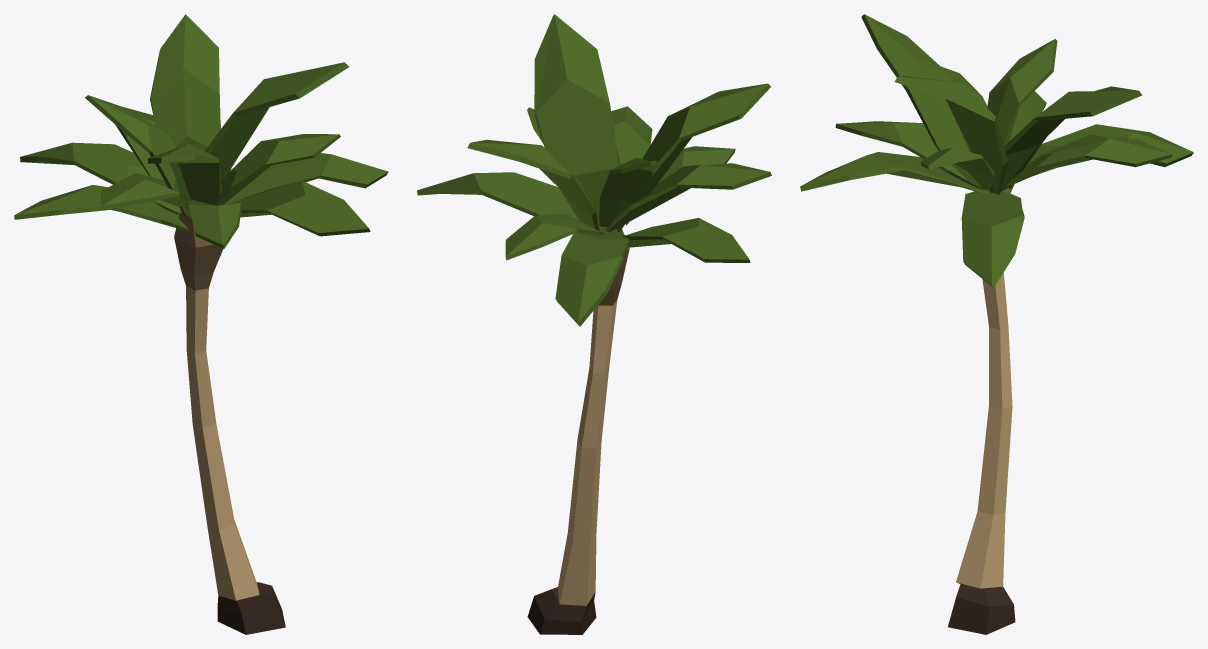
The model's file is island_palm_2.fbx.
3 views of the same model, side by side, from view 1: azimuth 30°, elevation 25°; view 2: azimuth 150°, elevation 25°; view 3: azimuth 270°, elevation 25° (orthographic).
Visible parts, largest first — view 1: palm1; view 2: palm1; view 3: palm1.
Part boxes in pixels (x1=…): palm1: x1=14, y1=14, x2=388, y2=634; palm1: x1=417, y1=14, x2=771, y2=634; palm1: x1=800, y1=14, x2=1193, y2=634.
Size of the model in its own units: 4.29 by 6.62 by 4.16.
